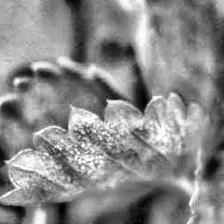Powdery Mildew Leaf: (0, 58, 210, 206)
